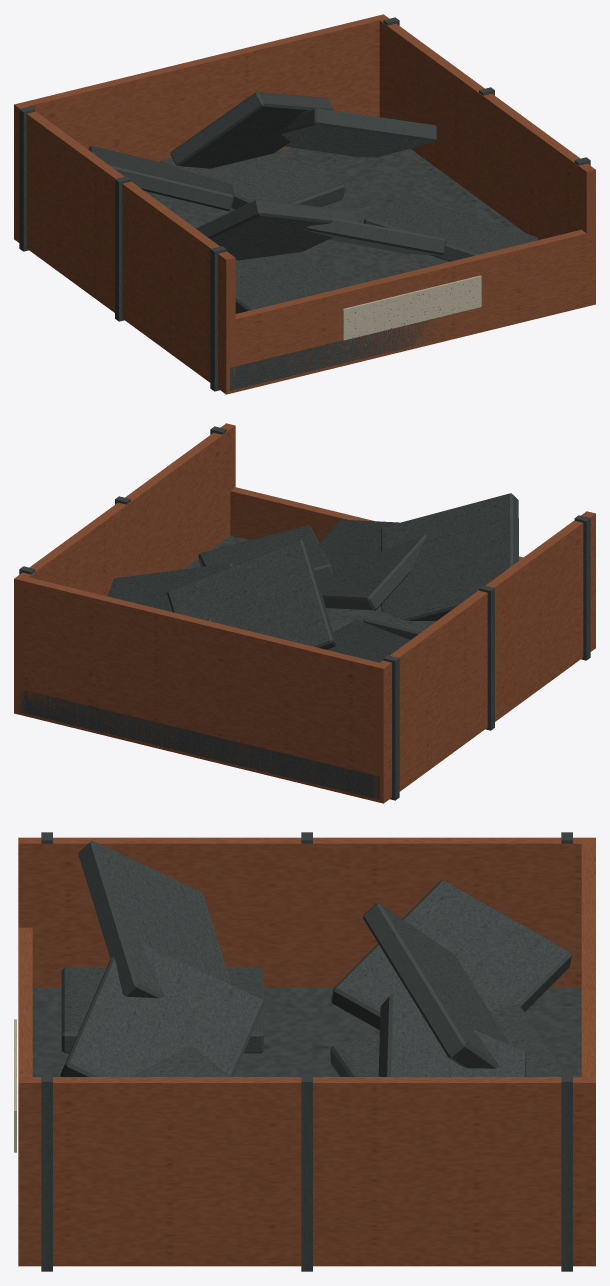
Rendered from SortingSkip.fbx.
3 views of the same model, one above another, from view 1: azimuth 30°, elevation 25°; view 2: azimuth 150°, elevation 25°; view 3: azimuth 270°, elevation 25° (orthographic). The views are drawn at different scales.
Parts seen in each view (by area): view 1: SortingSkip; view 2: SortingSkip; view 3: SortingSkip.
Part boxes in pixels (x1,y1,x2,y2): SortingSkip: (14, 14, 595, 394); SortingSkip: (14, 423, 595, 803); SortingSkip: (14, 832, 595, 1271).
Bounding box in the file's own units: 409 × 174 × 403.
Materials: 1 (1 with a texture image).
